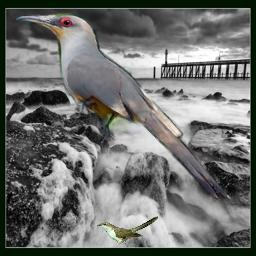Cuckoo: (15, 12, 233, 204), (97, 216, 158, 244)
